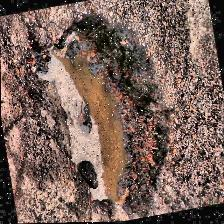pothole: (24, 2, 184, 224)
